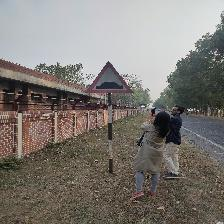Speed-breaker: (86, 62, 133, 93)
